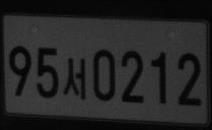0: (92, 48, 116, 101)
1: (148, 51, 172, 103)
2: (176, 51, 202, 107), (119, 49, 145, 104)
5: (36, 47, 59, 98)
9: (8, 44, 32, 97)
서: (62, 57, 87, 101)
